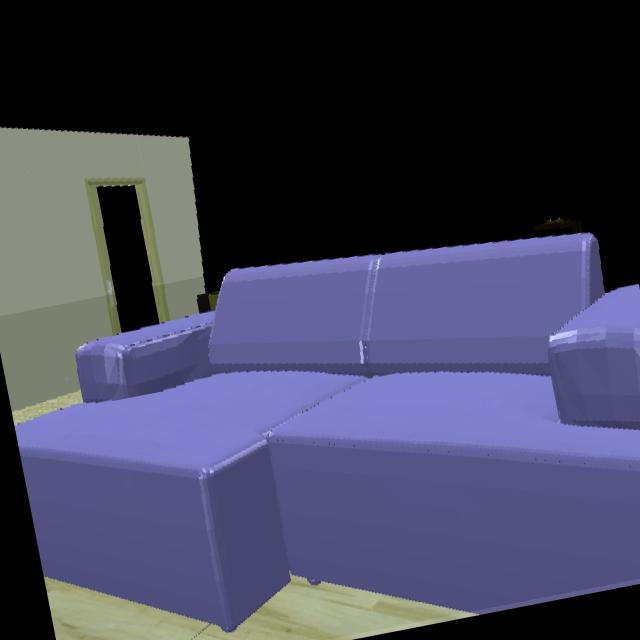sofa: (15, 233, 640, 630)
